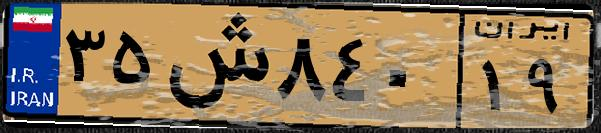0: (385, 28, 445, 110)
1: (475, 38, 525, 113)
3: (57, 26, 110, 100)
4: (330, 28, 385, 110)
5: (110, 28, 158, 98)
8: (270, 28, 330, 110)
9: (525, 38, 570, 115)
ش: (158, 12, 270, 120)
